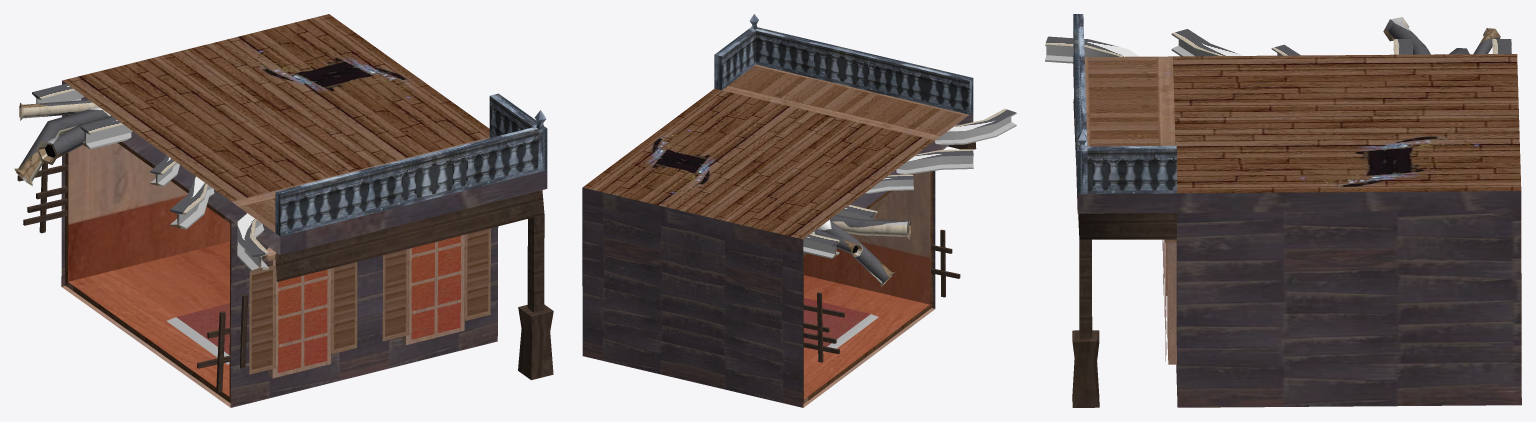
Rendered from spooky-tower-floating-cabin-02-art.glb.
3 renders of one model, left to right at view 1: azimuth 30°, elevation 25°; view 2: azimuth 150°, elevation 25°; view 3: azimuth 270°, elevation 25°, orthographic. The views are drawn at different scales.
Parts seen in each view (by area): view 1: Spooky_Tower_Floating_Cabin_02_Art; view 2: Spooky_Tower_Floating_Cabin_02_Art; view 3: Spooky_Tower_Floating_Cabin_02_Art.
Part boxes in pixels (<box>): Spooky_Tower_Floating_Cabin_02_Art: <box>14,14,553,407</box>; Spooky_Tower_Floating_Cabin_02_Art: <box>582,14,1016,407</box>; Spooky_Tower_Floating_Cabin_02_Art: <box>1045,14,1521,407</box>.
Size of the model in its own units: 5.45 by 3.89 by 6.09.
Materials: 5 (5 with a texture image).
